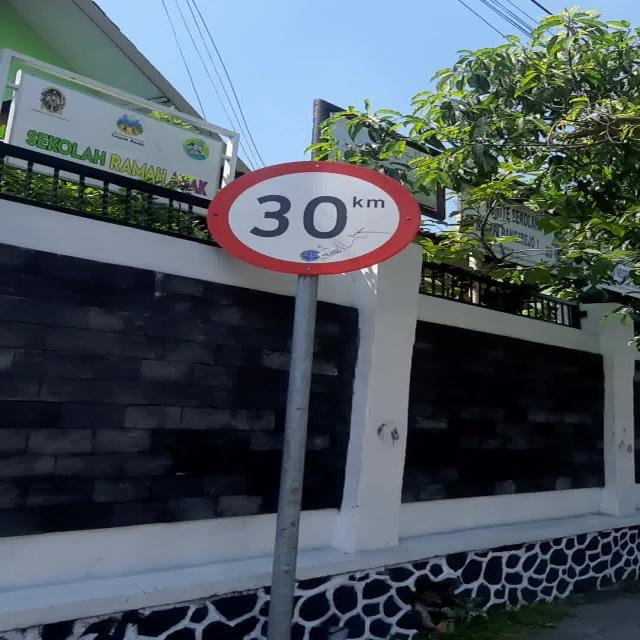Kecepatan Maks. 30 km: (206, 161, 421, 275)
